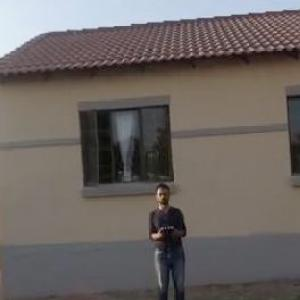follow: (144, 187, 194, 299)
